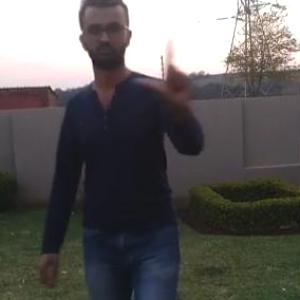land_hand: (139, 30, 198, 109)
